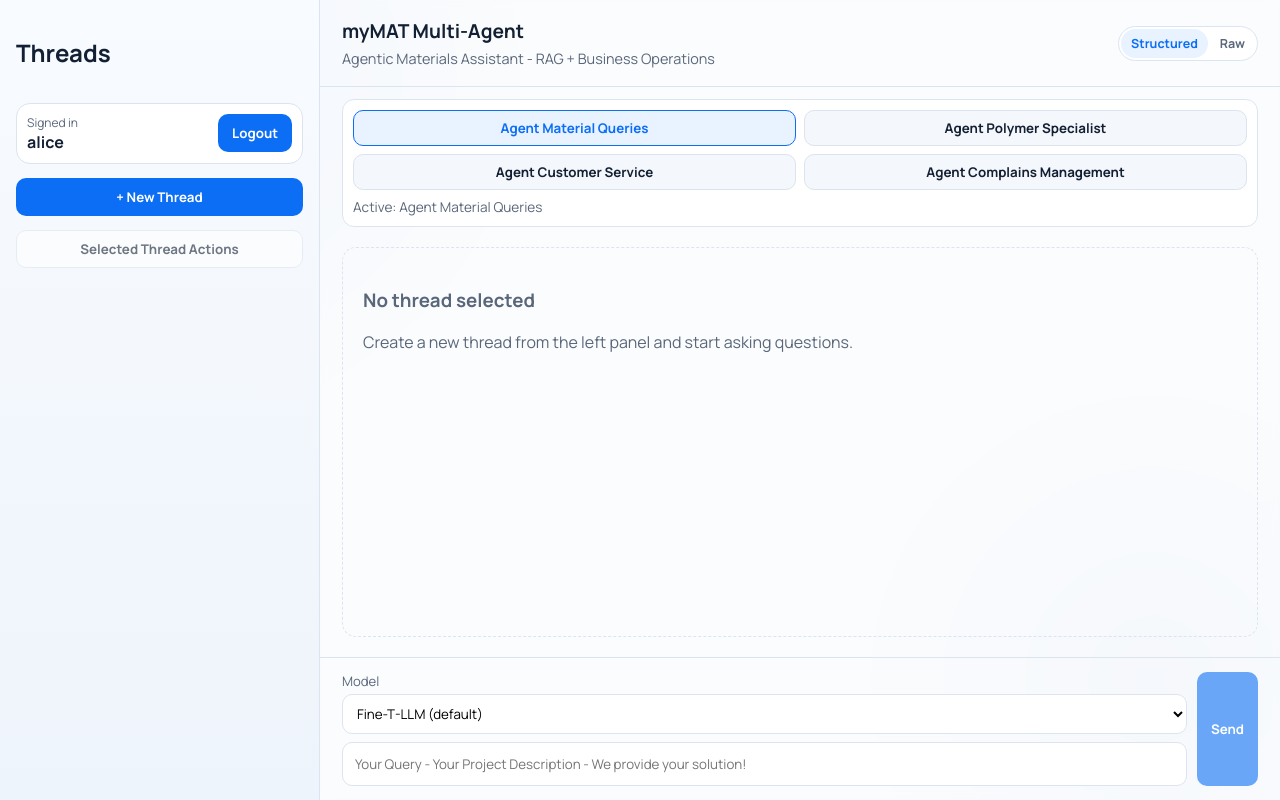
Test: App chat flow › sends query and renders assistant answer with source
The width and height of the screenshot is (1280, 800).
Step 1. Replace the text in the field named "Ask a question" with "What is covered?" → coordinates (764, 764), box [342,742,1187,786]
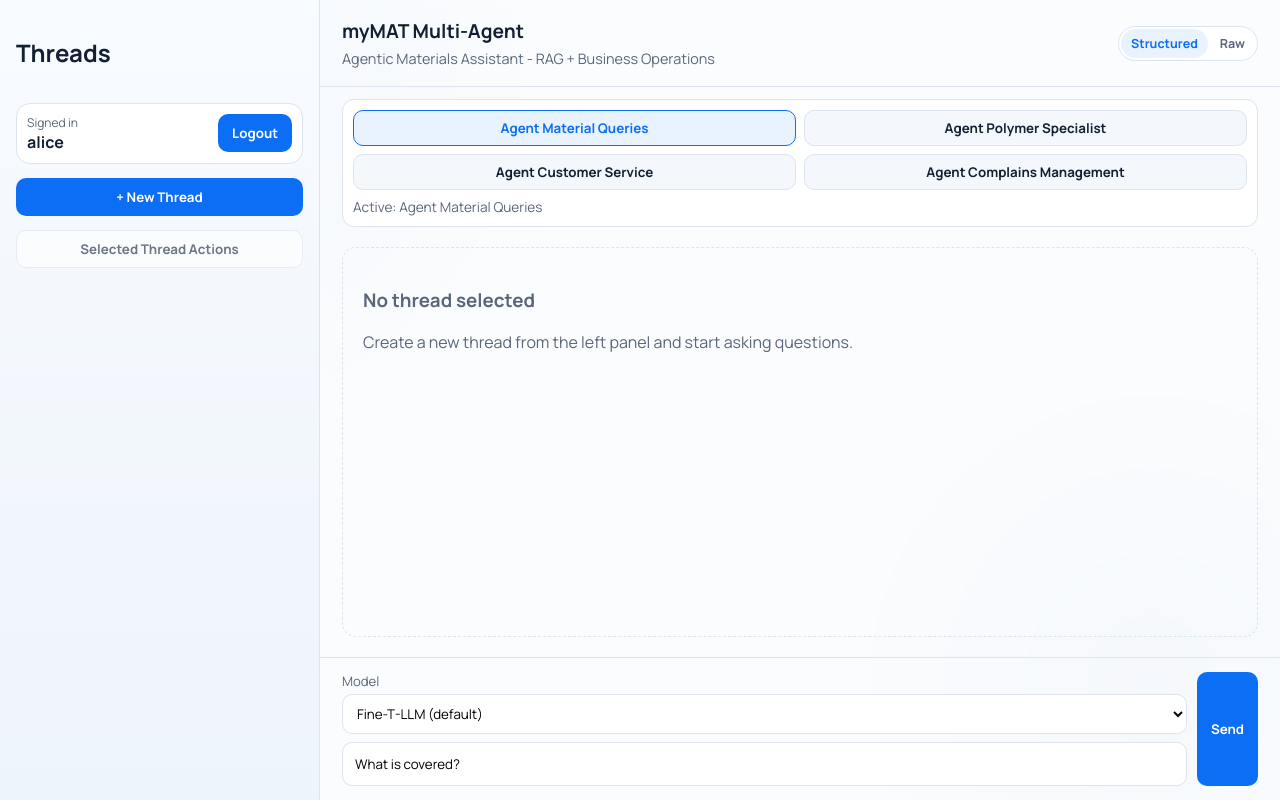
Step 2. Click the button "Send" → coordinates (1228, 729), box [1197,672,1258,786]
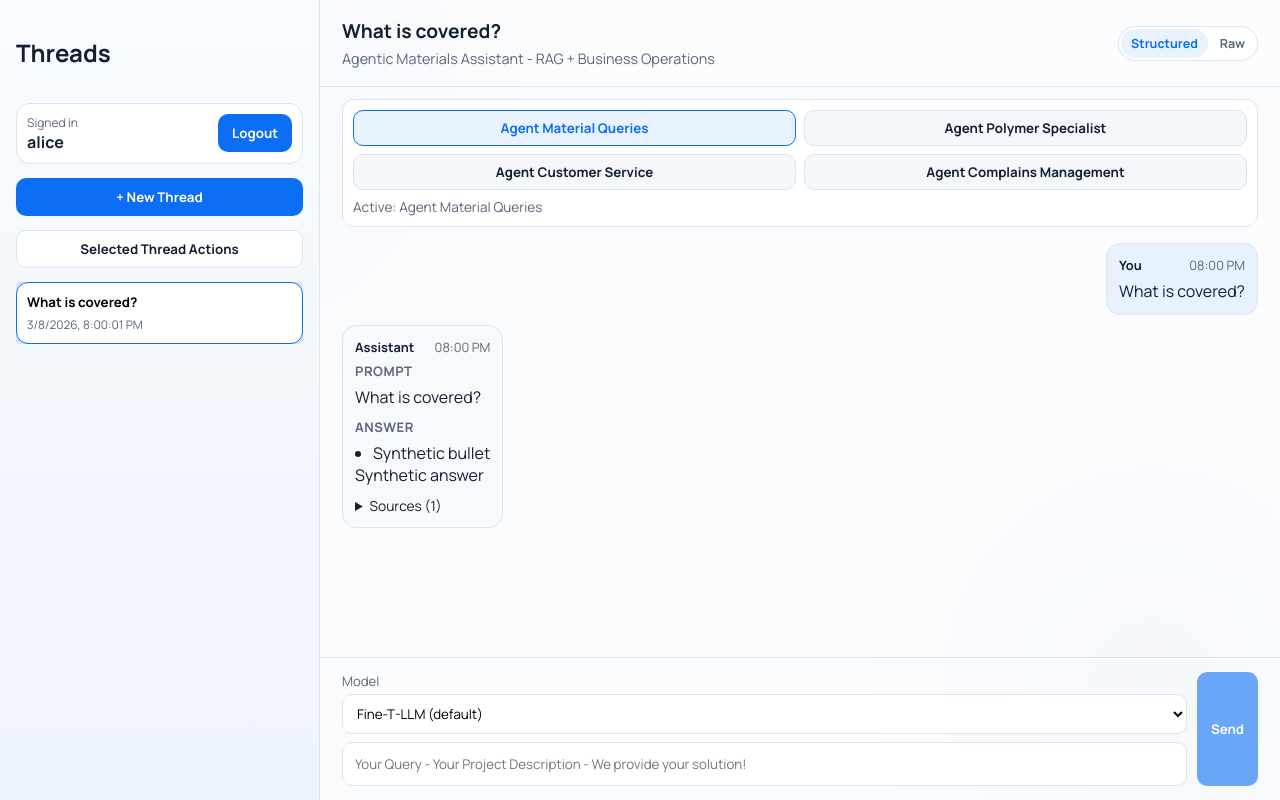
Expected: the text "Synthetic answer" is shown, [355,464,490,486]
Expected: the heading "Sources (1)" is shown, [370,496,442,515]
